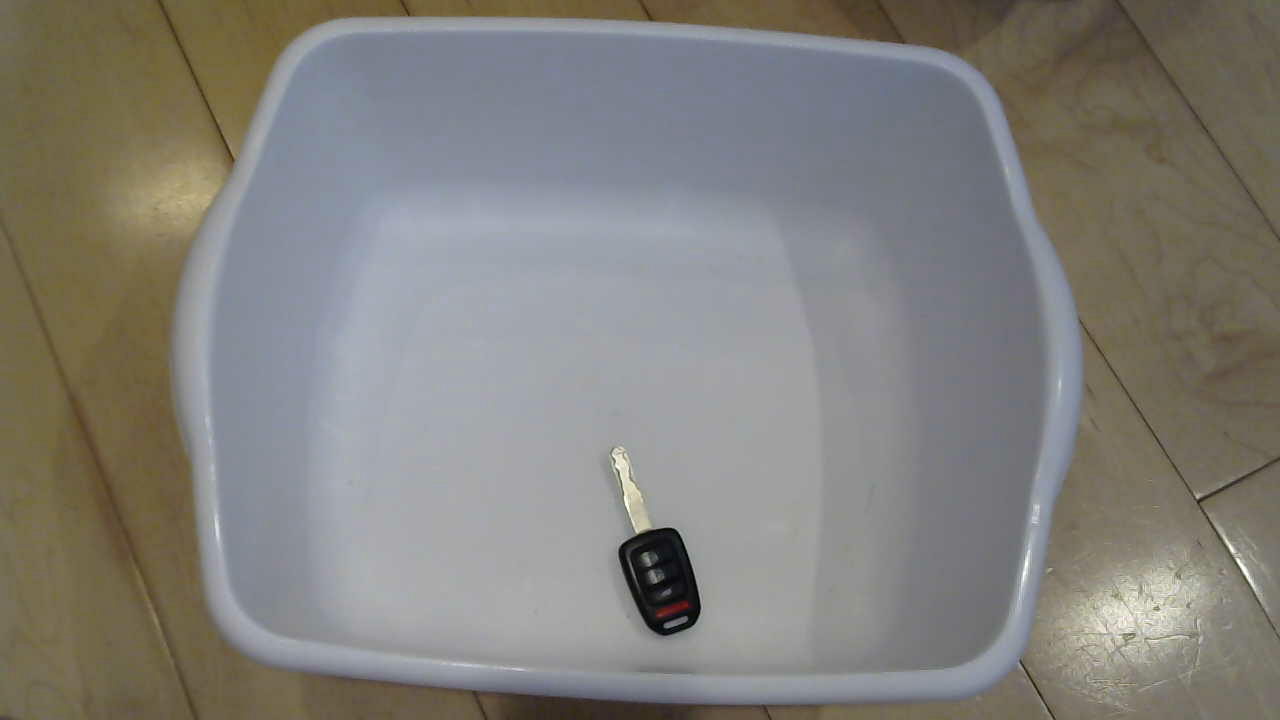key: (566, 447, 720, 639)
